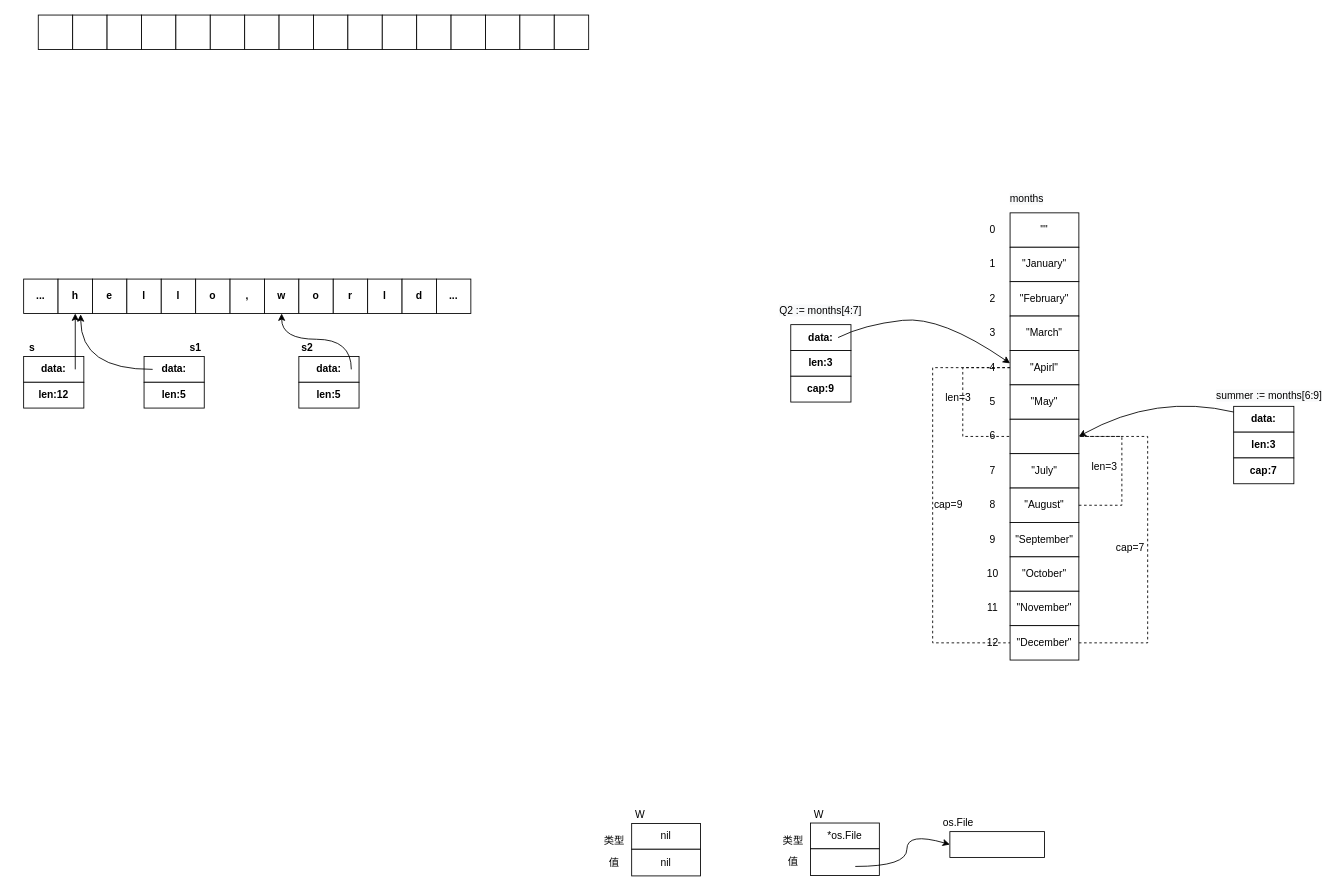
Some shapes in this 1341 by 891 pixel diagram are drawn without their labels. Here are the shapes that lost their labels. From the top down, the centre of each, then its label:
[1044,436]: "June"
[996,844]: fd int=1(stdout)
